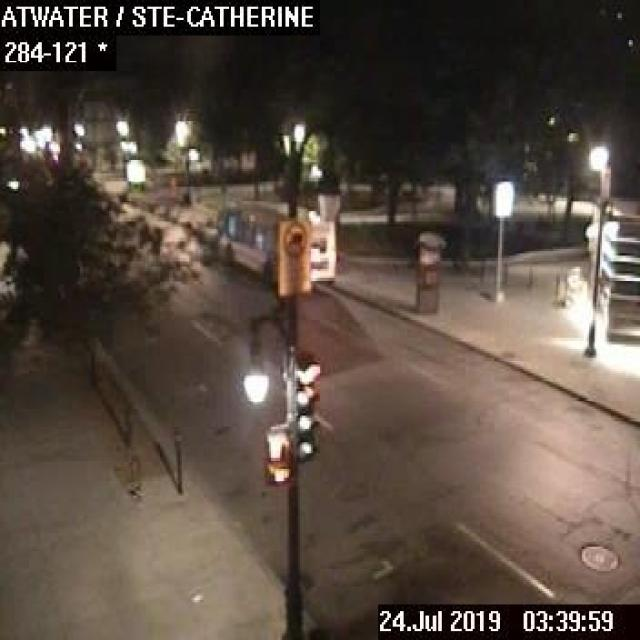bus: (212, 198, 334, 286)
